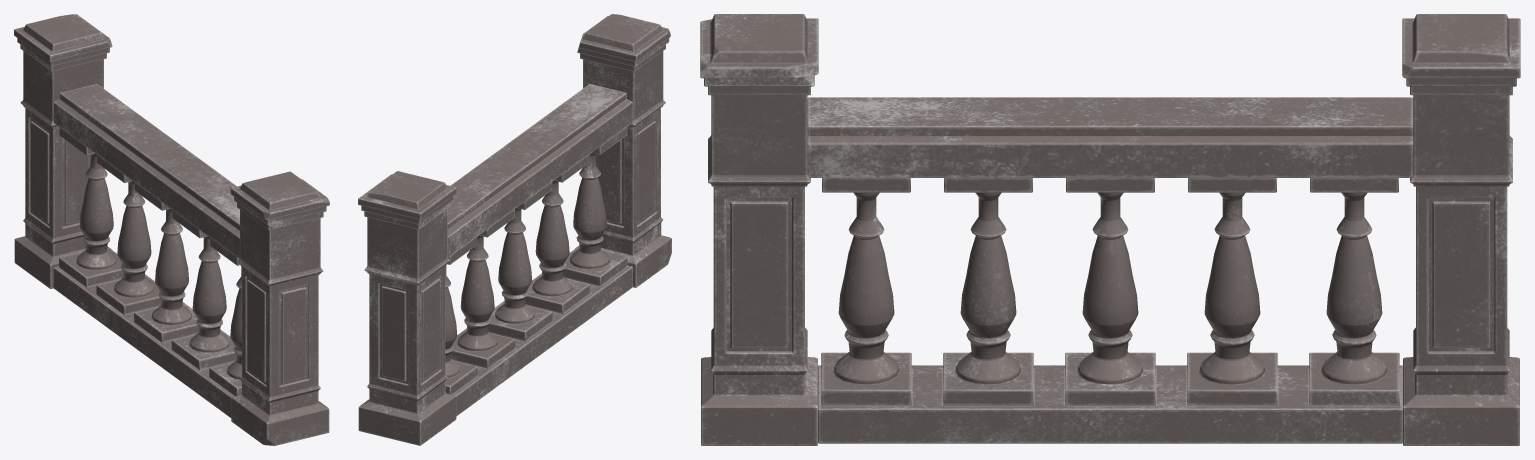
File: Fence.fbx
The picture shows the model from 3 angles, left to right: view 1: azimuth 30°, elevation 25°; view 2: azimuth 150°, elevation 25°; view 3: azimuth 270°, elevation 25°; orthographic projection. The views are drawn at different scales.
Visible parts, largest first — view 1: Fence; view 2: Fence; view 3: Fence.
Part boxes in pixels (<box>): Fence: <box>14,14,329,445</box>; Fence: <box>358,14,671,445</box>; Fence: <box>700,14,1520,445</box>.
Bounding box in the file's own units: 202 × 734 × 1402.
Materials: 1 (1 with a texture image).
